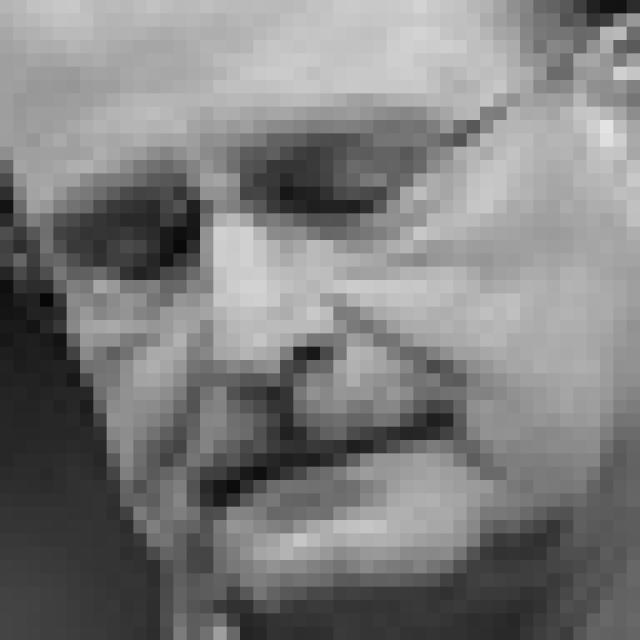sad: (63, 104, 498, 577)
